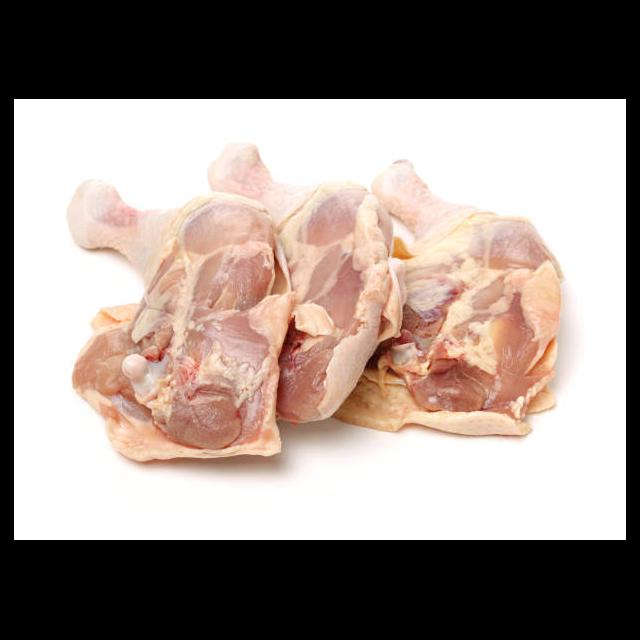chicken: (334, 160, 565, 438), (63, 180, 290, 462), (208, 144, 394, 426)
